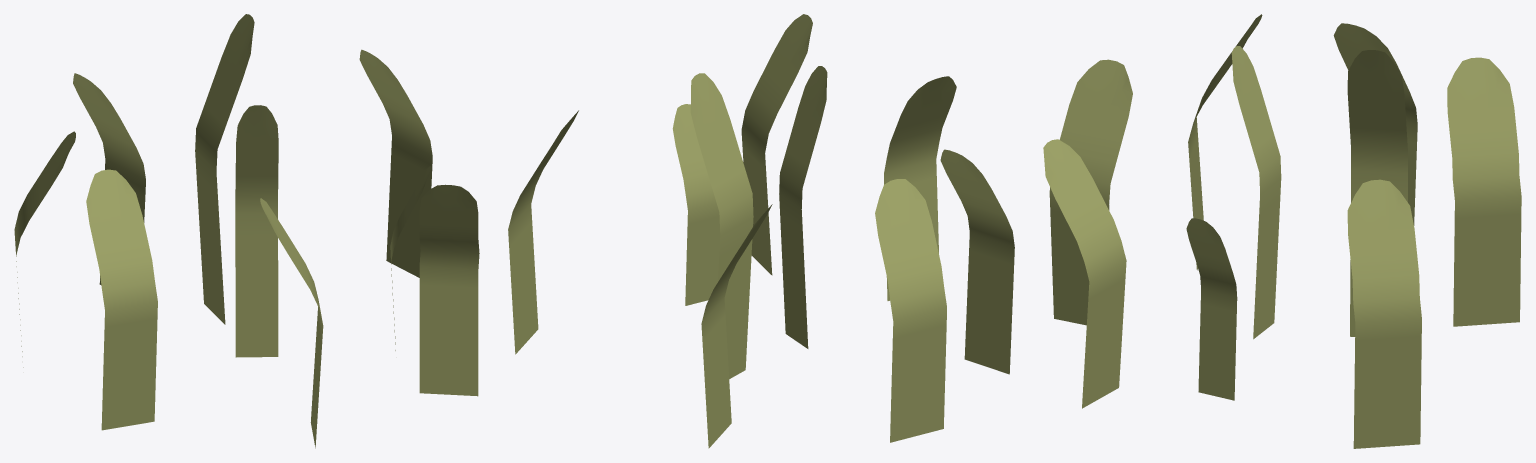
The model's file is Gras_placeholder.fbx.
3 views of the same model, side by side, from view 1: azimuth 30°, elevation 25°; view 2: azimuth 150°, elevation 25°; view 3: azimuth 270°, elevation 25° (orthographic). The views are drawn at different scales.
Parts seen in each view (by area): view 1: Grasssssss; view 2: Grasssssss; view 3: Grasssssss.
Part boxes in pixels (x1,y1,x2,y2): Grasssssss: (14, 14, 479, 448); Grasssssss: (508, 14, 1014, 448); Grasssssss: (1043, 14, 1521, 448).
Size of the model in its own units: 24.69 by 17.07 by 23.57.
